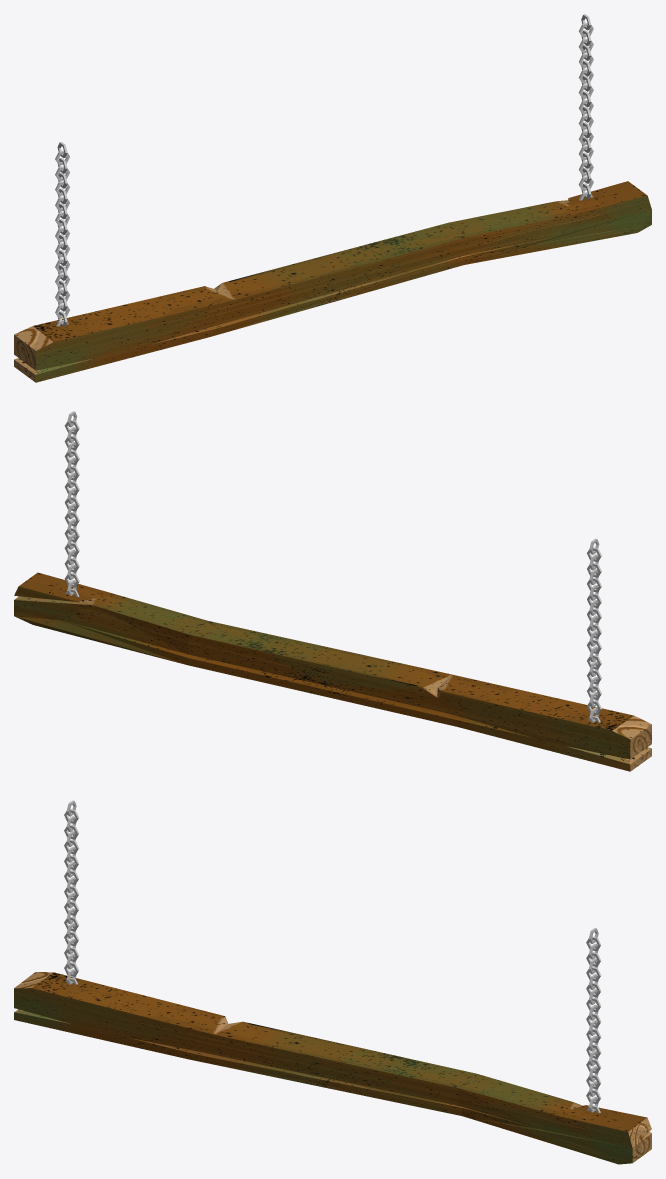
File: Plataforma com espinhos.fbx
3 views of the same model, one above another, from view 1: azimuth 30°, elevation 25°; view 2: azimuth 150°, elevation 25°; view 3: azimuth 330°, elevation 25° (orthographic).
Parts seen in each view (by area): view 1: Box079, Correntes.000, Correntes.001; view 2: Box079, Correntes.001, Correntes.000; view 3: Box079, Correntes.000, Correntes.001.
Boxes of the visible parts, <box> form: Box079: <box>14,181,651,382</box>; Correntes.000: <box>578,14,593,200</box>; Correntes.001: <box>55,142,69,326</box>; Box079: <box>14,572,651,771</box>; Correntes.001: <box>587,538,601,722</box>; Correntes.000: <box>64,411,79,596</box>; Box079: <box>14,972,651,1164</box>; Correntes.000: <box>586,928,601,1113</box>; Correntes.001: <box>64,800,78,984</box>.
Size of the model in its own units: 1362 by 458 by 100.
